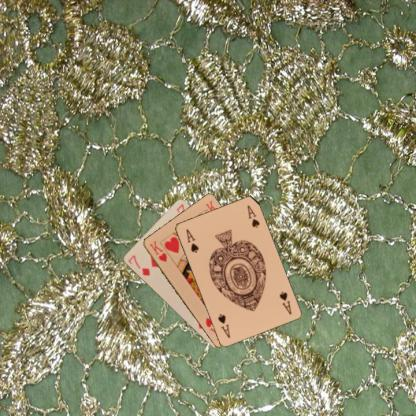7d: (125, 252, 151, 277)
As: (183, 227, 200, 254), (277, 289, 292, 316)
Kh: (146, 238, 168, 263)
